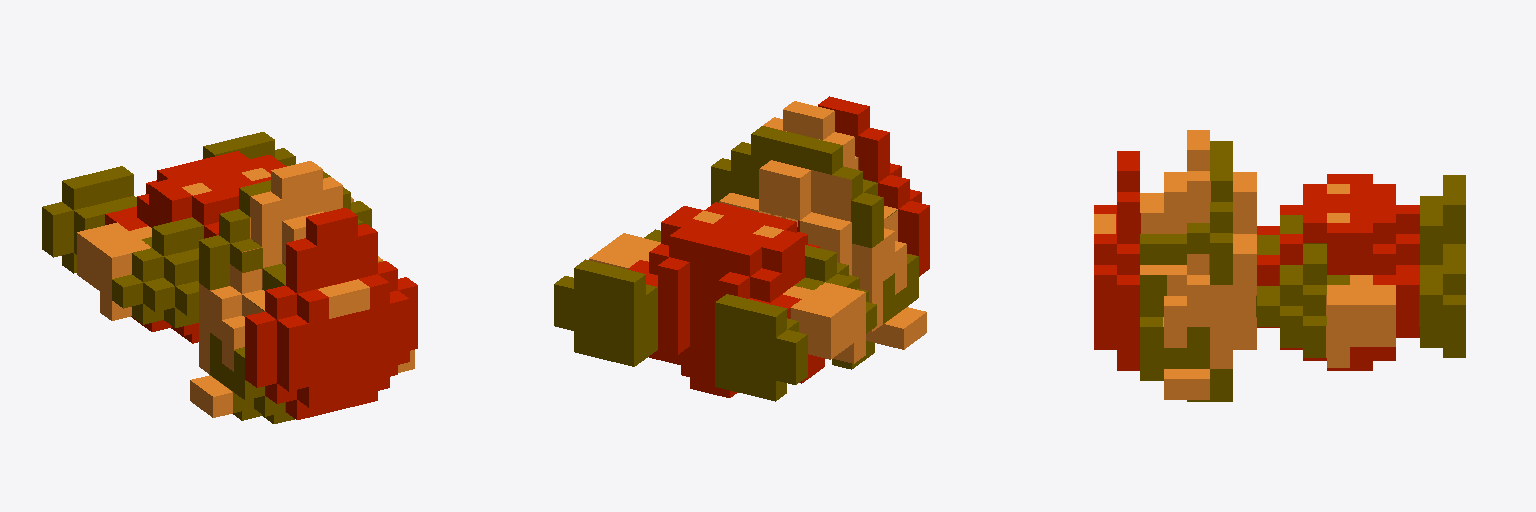
The picture shows the model from 3 angles: view 1: azimuth 30°, elevation 25°; view 2: azimuth 150°, elevation 25°; view 3: azimuth 270°, elevation 25°; orthographic projection.
Parts seen in each view (by area): view 1: mario_standing; view 2: mario_standing; view 3: mario_standing.
Part boxes in pixels (x1,y1,x2,y2): mario_standing: (42,132,417,423); mario_standing: (554,96,929,401); mario_standing: (1094,130,1465,401).
Size of the model in its own units: 120 by 110 by 160.
1 materials, 1 textured.